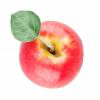Apple leaf: (9, 10, 42, 45)
